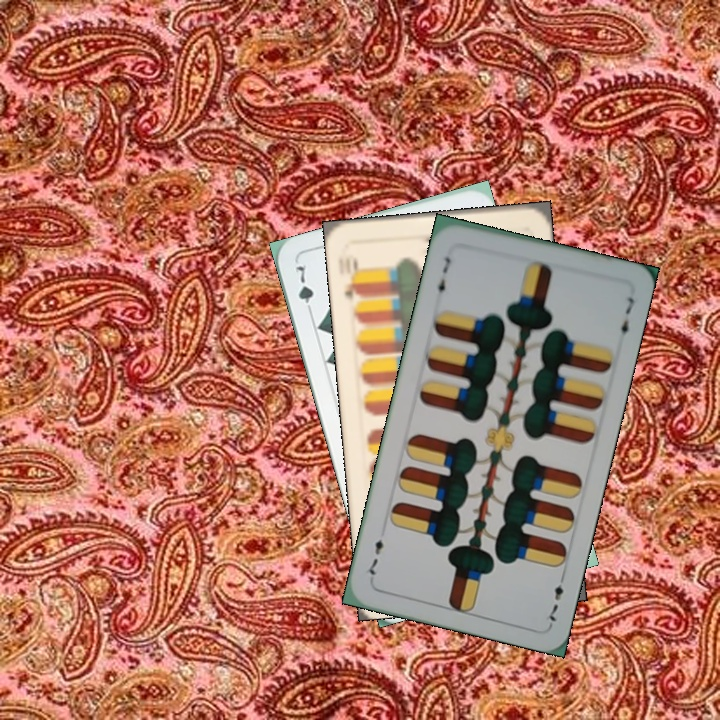E10: (341, 253, 364, 303)
E7: (542, 569, 568, 624), (432, 252, 453, 301)
G7: (291, 260, 317, 319)
